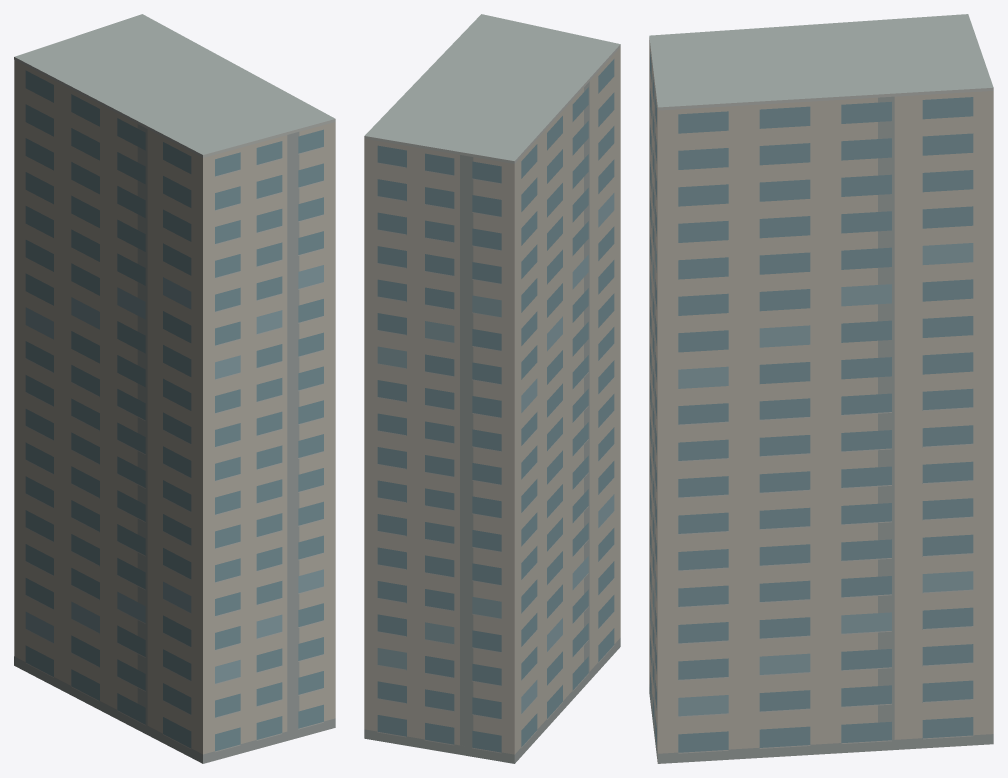
Rendered from residential-07bb15f6-c743-4df3-a951-297ceb1f74ca.glb.
3 views of the same model, side by side, from view 1: azimuth 30°, elevation 25°; view 2: azimuth 150°, elevation 25°; view 3: azimuth 270°, elevation 25° (orthographic). The views are drawn at different scales.
Parts seen in each view (by area): view 1: residential-07bb15f6-c743-4df3-a951-297ceb1f74ca.tmp; view 2: residential-07bb15f6-c743-4df3-a951-297ceb1f74ca.tmp; view 3: residential-07bb15f6-c743-4df3-a951-297ceb1f74ca.tmp.
Boxes of the visible parts, <box> form: residential-07bb15f6-c743-4df3-a951-297ceb1f74ca.tmp: <box>14,14,335,763</box>; residential-07bb15f6-c743-4df3-a951-297ceb1f74ca.tmp: <box>364,14,620,763</box>; residential-07bb15f6-c743-4df3-a951-297ceb1f74ca.tmp: <box>649,14,993,763</box>.
Size of the model in its own units: 15.89 by 52 by 24.74.
